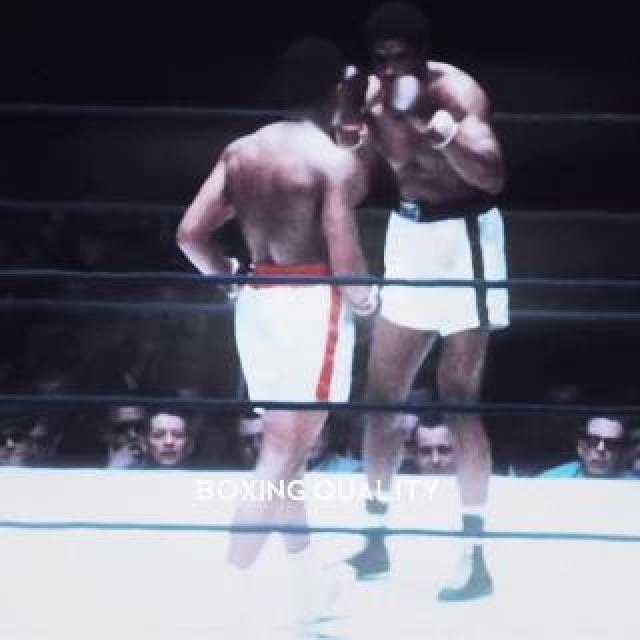fight: (190, 24, 530, 620)
